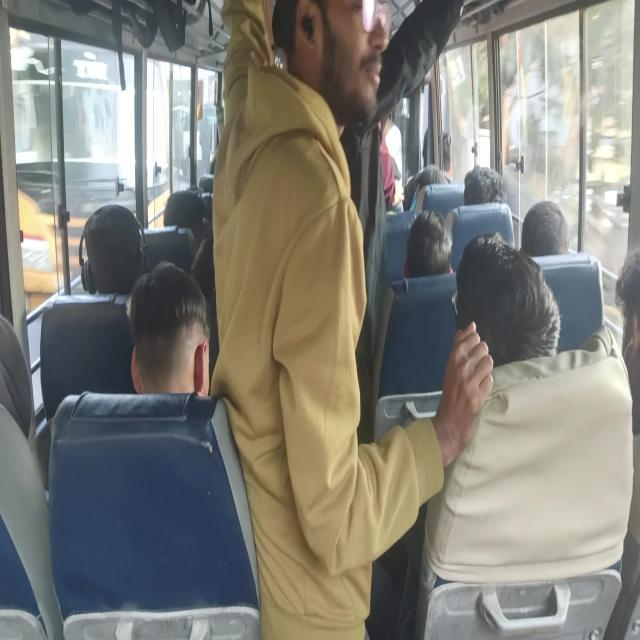person: (455, 228, 551, 377), (128, 272, 239, 390), (280, 0, 376, 112), (332, 0, 414, 131), (0, 341, 51, 522), (397, 209, 475, 287), (79, 198, 149, 273), (526, 182, 575, 262), (467, 156, 522, 220), (622, 256, 640, 444), (193, 238, 245, 301), (168, 180, 215, 232), (425, 126, 455, 177), (411, 164, 443, 198)
